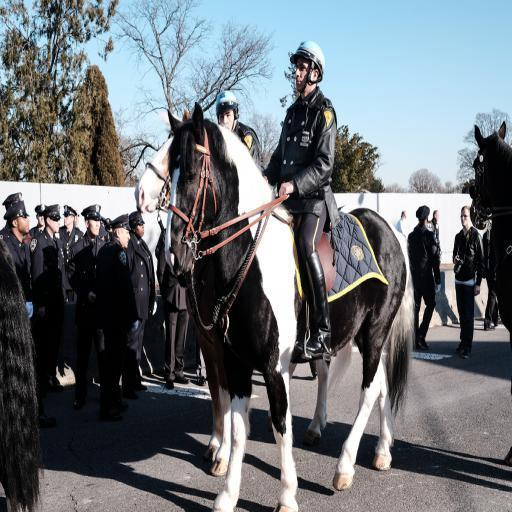horse: (162, 98, 416, 512), (133, 108, 353, 478)
